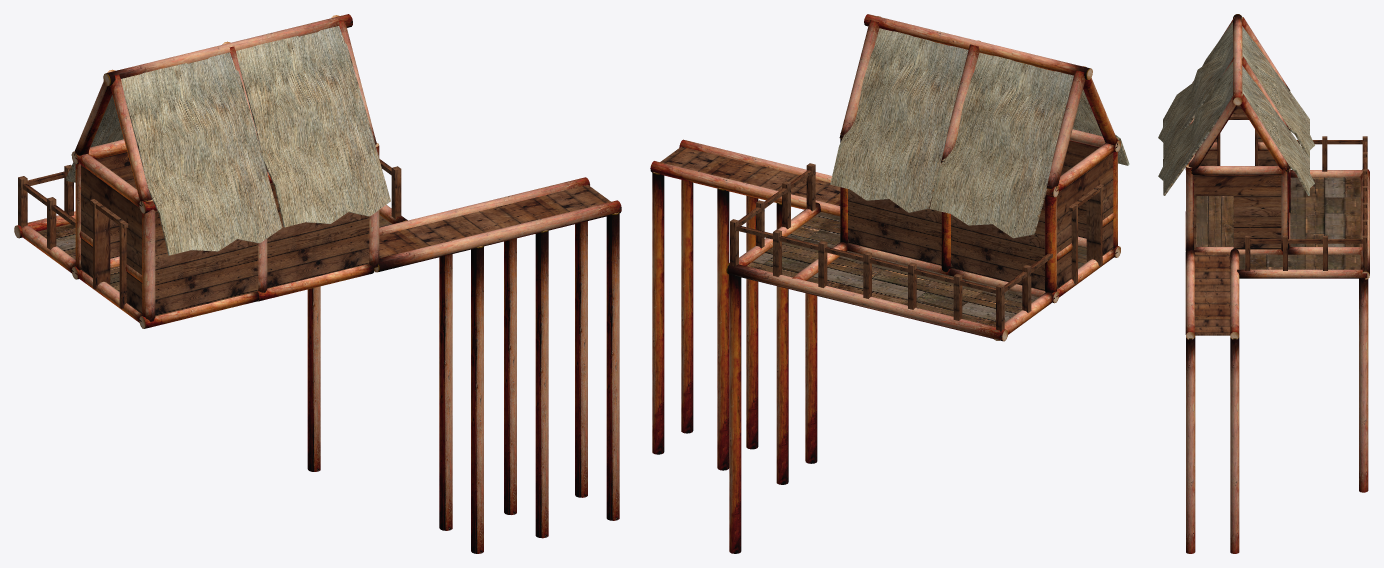
The model's file is fish_house_var1_ver_001.fbx.
3 renders of one model, left to right at view 1: azimuth 30°, elevation 25°; view 2: azimuth 150°, elevation 25°; view 3: azimuth 270°, elevation 25°, orthographic. The views are drawn at different scales.
Visible parts, largest first — view 1: fish_house1_pCube2; view 2: fish_house1_pCube2; view 3: fish_house1_pCube2.
Part boxes in pixels (x1=…): fish_house1_pCube2: x1=14, y1=14, x2=621, y2=553; fish_house1_pCube2: x1=650, y1=14, x2=1129, y2=553; fish_house1_pCube2: x1=1158, y1=14, x2=1369, y2=553.
Bounding box in the file's own units: 249 × 266 × 136.
